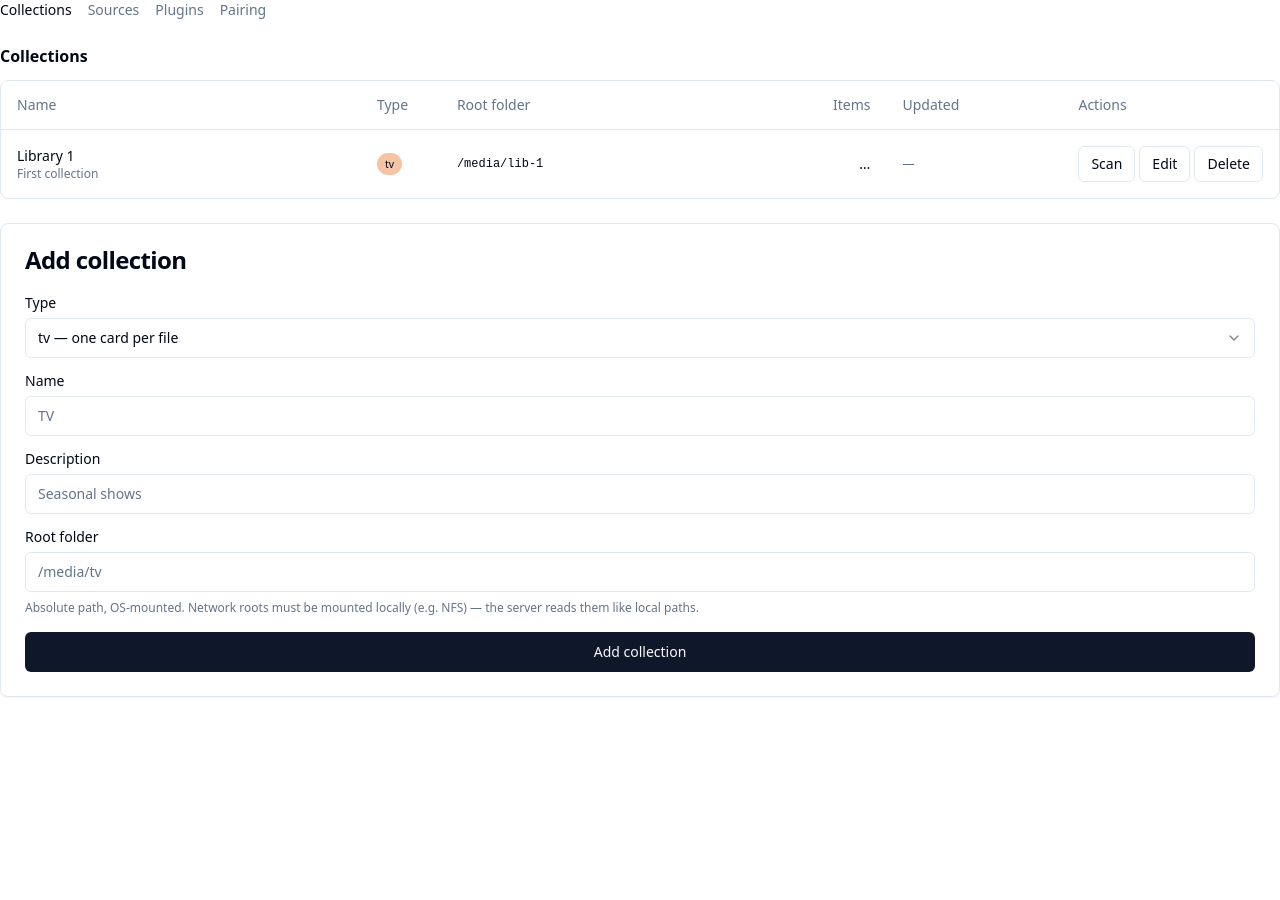
Collections — admin panel (group 6) › edit overlay surfaces the canonical 400 error inline and stays open (no auto-retry)
The width and height of the screenshot is (1280, 900).
Expected: the text "Library 1" is shown, left=17, top=146, right=74, bottom=164
Click the button "Edit" at (1165,164), box left=1139, top=146, right=1190, bottom=182
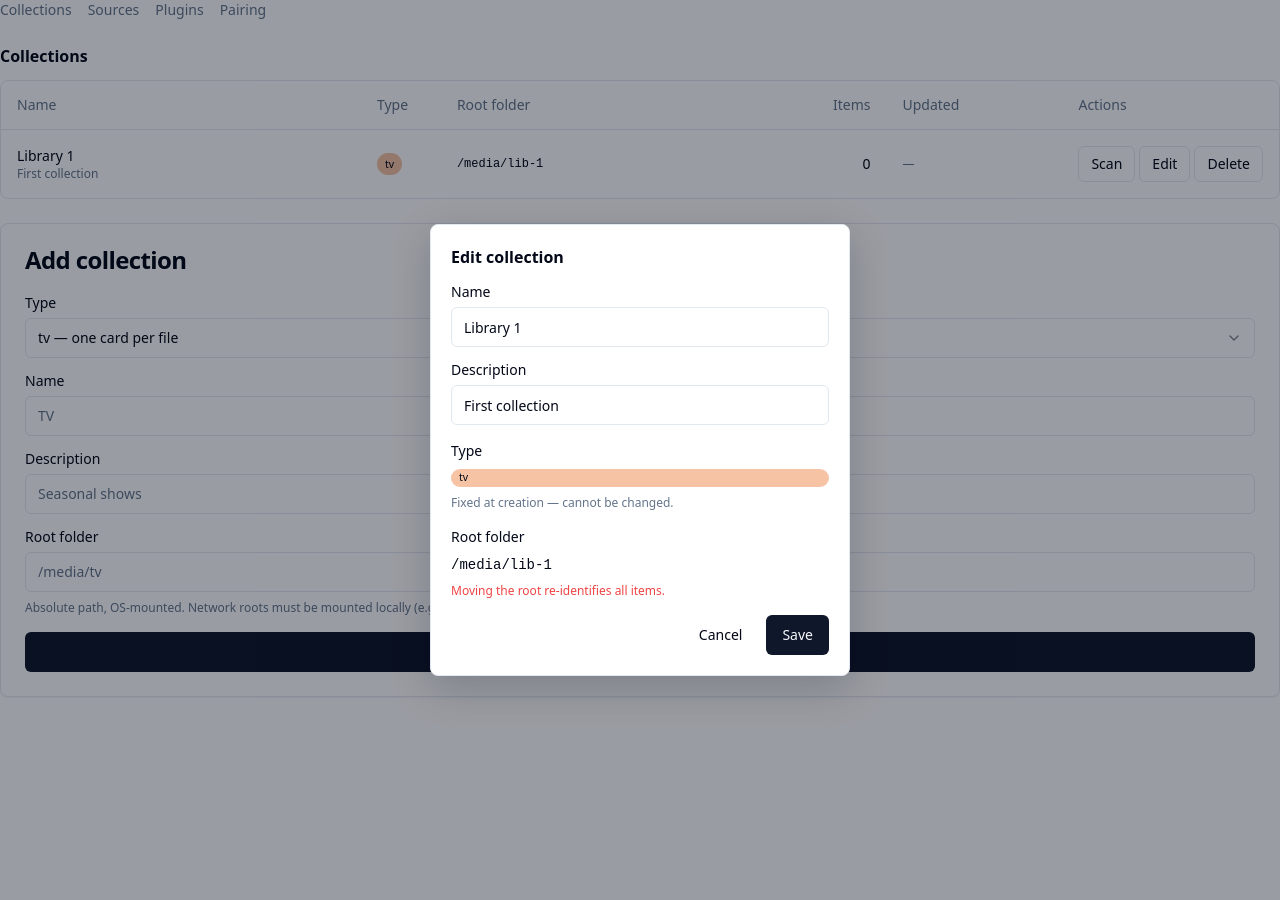
Click the button "Save" at (798,635), box left=766, top=615, right=829, bottom=655
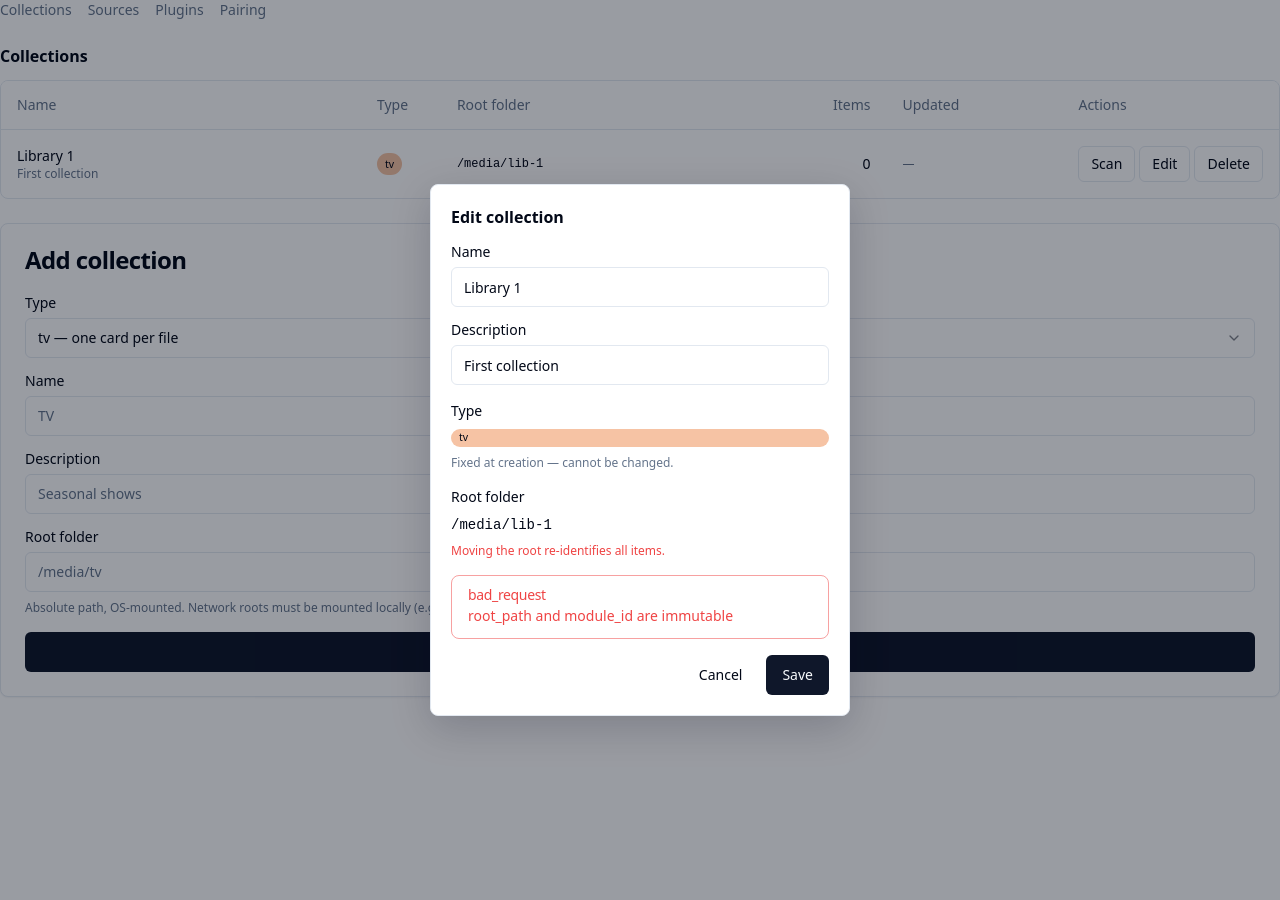
Expected: the dialog is shown
Expected: the heading "bad_request" is shown, left=468, top=585, right=546, bottom=604
Expected: the text "root_path and module_id are immutable" is shown, left=468, top=606, right=733, bottom=625
